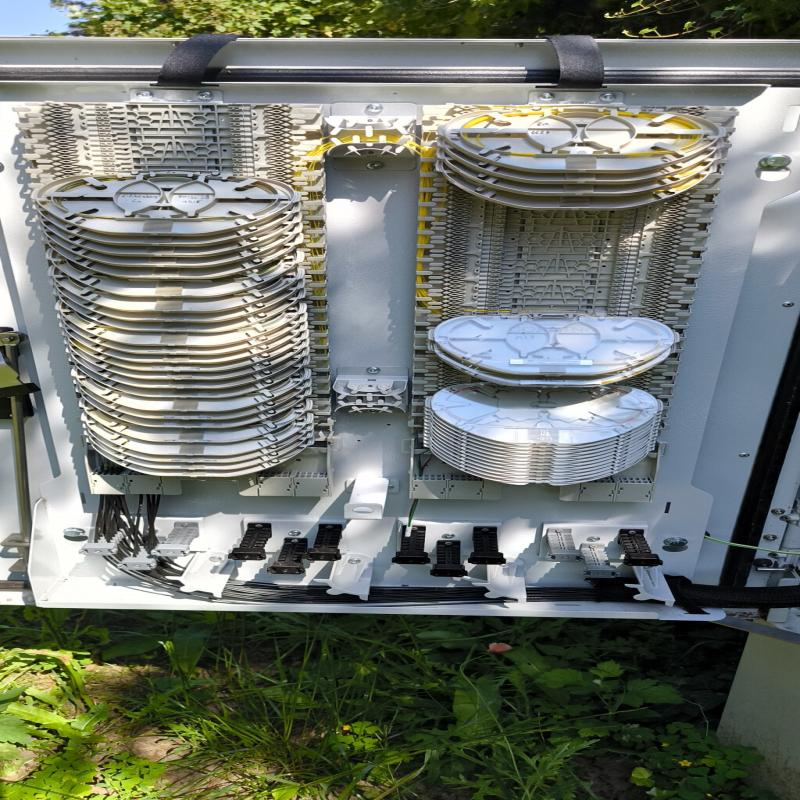NT-Gehause: (0, 39, 791, 781)
Spleiskassetten: (19, 104, 351, 509), (409, 100, 750, 494)
